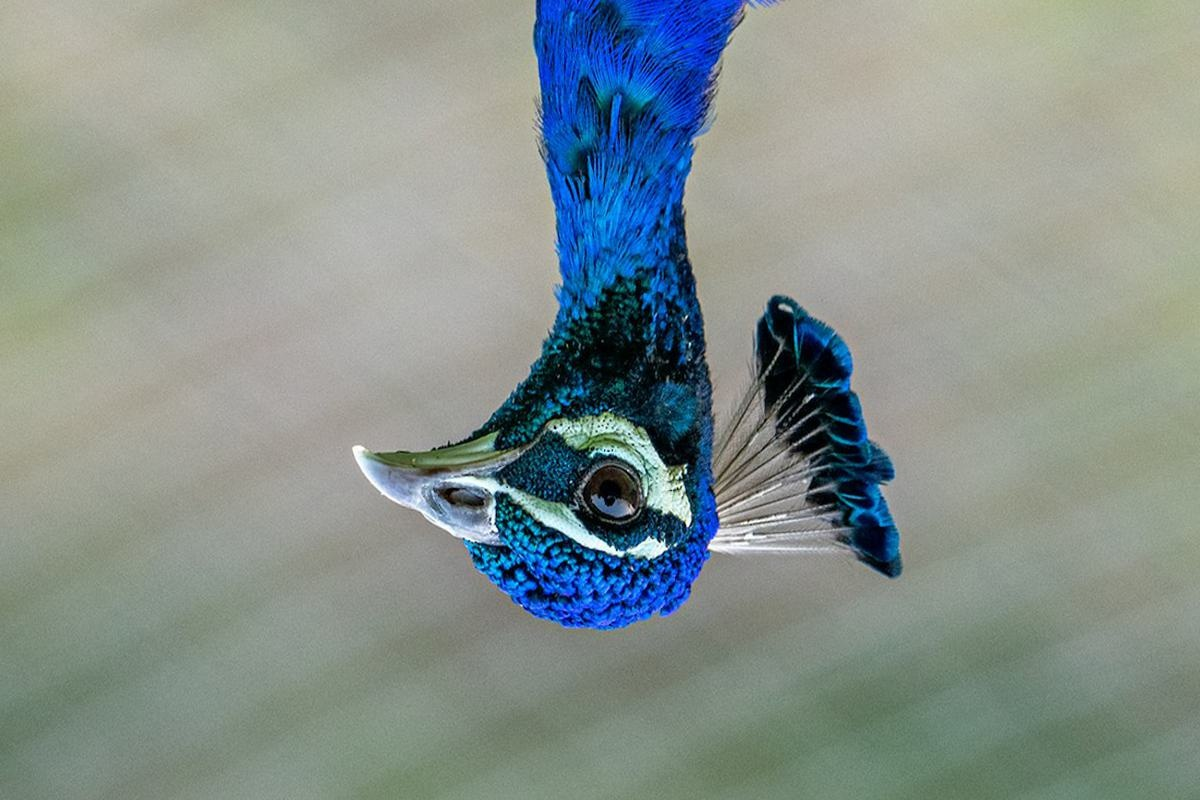peacock: (296, 10, 940, 660)
